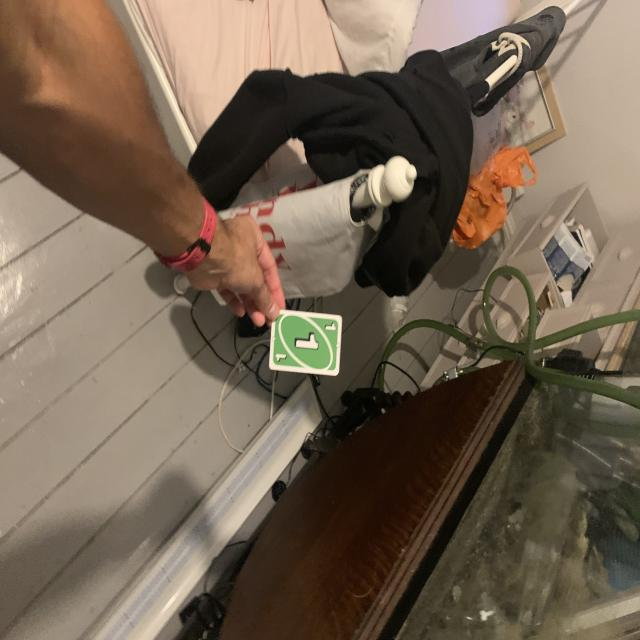lgreen-1: (274, 348, 290, 366)
